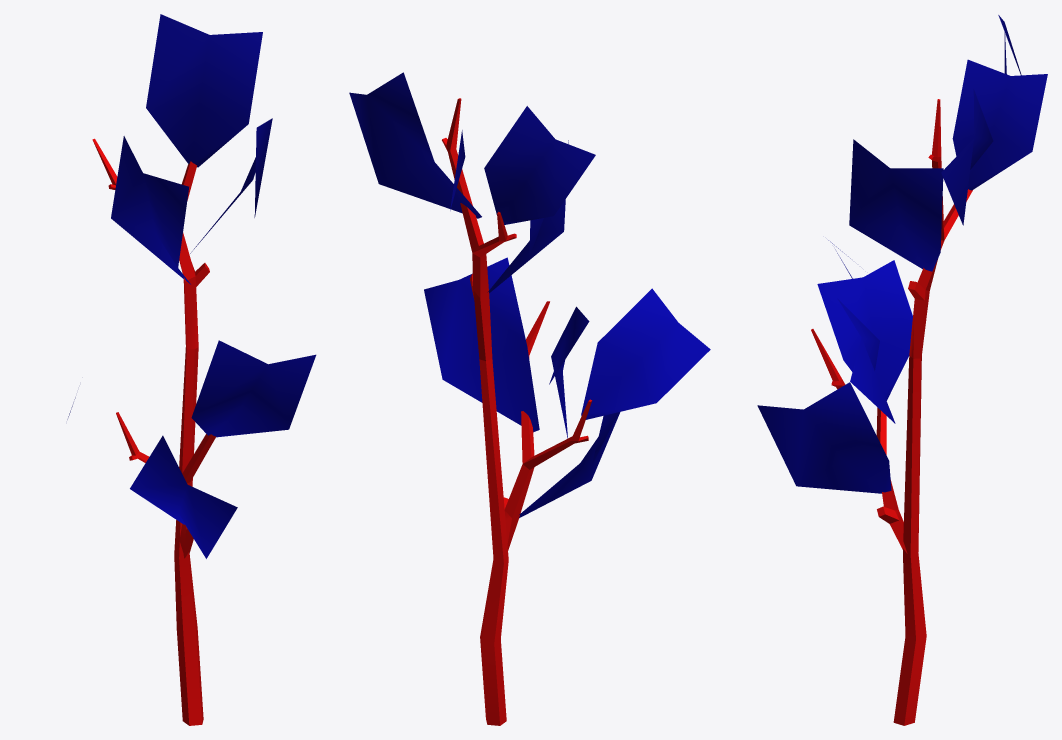
The model's file is SM_Tree_Dead_02.glb.
3 renders of one model, left to right at view 1: azimuth 30°, elevation 25°; view 2: azimuth 150°, elevation 25°; view 3: azimuth 270°, elevation 25°, orthographic.
Visible parts, largest first — view 1: SM_Tree_Dead_02; view 2: SM_Tree_Dead_02; view 3: SM_Tree_Dead_02.
Boxes of the visible parts, bbox=[...] form: SM_Tree_Dead_02: bbox=[67, 14, 316, 725]; SM_Tree_Dead_02: bbox=[349, 72, 710, 725]; SM_Tree_Dead_02: bbox=[757, 15, 1047, 725].
Size of the model in its own units: 1.19 by 2.66 by 1.07.
